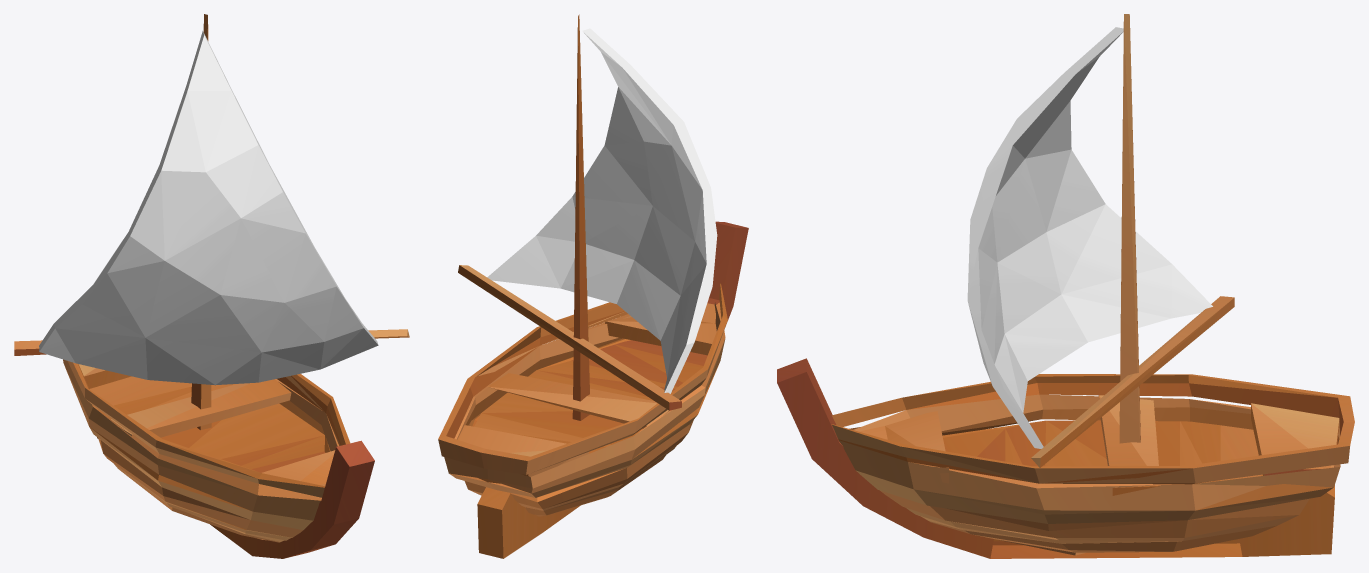
The model's file is GL-Manmade-08-LOD2.fbx.
The picture shows the model from 3 angles, left to right: view 1: azimuth 30°, elevation 25°; view 2: azimuth 150°, elevation 25°; view 3: azimuth 270°, elevation 25°; orthographic projection. The views are drawn at different scales.
Visible parts, largest first — view 1: GL_Manmade_08; view 2: GL_Manmade_08; view 3: GL_Manmade_08.
Boxes of the visible parts, bbox=[...] form: GL_Manmade_08: bbox=[14, 14, 409, 558]; GL_Manmade_08: bbox=[438, 14, 748, 558]; GL_Manmade_08: bbox=[777, 14, 1354, 558].
Size of the model in its own units: 1.71 by 2.56 by 2.49.
